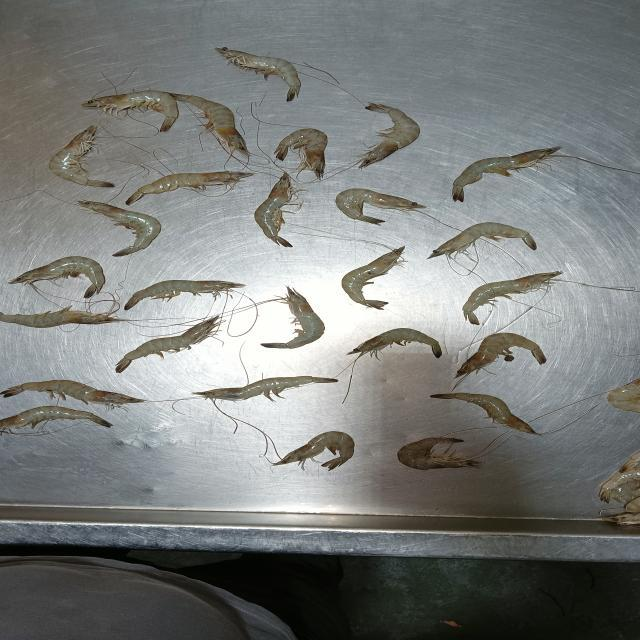shrimp: (116, 316, 221, 370), (452, 148, 558, 200), (167, 93, 248, 155), (463, 272, 559, 323), (78, 201, 160, 255), (455, 333, 545, 379), (218, 48, 299, 99), (432, 393, 535, 433), (126, 171, 253, 203), (49, 126, 114, 187), (10, 256, 104, 298), (342, 246, 405, 308), (357, 104, 419, 167), (83, 90, 178, 131), (428, 222, 535, 258), (263, 287, 324, 347), (124, 280, 243, 310), (0, 380, 142, 405), (255, 173, 302, 246), (195, 376, 337, 399), (276, 432, 354, 470), (336, 189, 423, 223), (1, 406, 110, 431), (348, 328, 442, 356), (398, 436, 476, 469), (276, 128, 326, 179), (0, 308, 121, 327), (600, 451, 639, 504), (608, 380, 639, 411), (612, 496, 639, 524)
